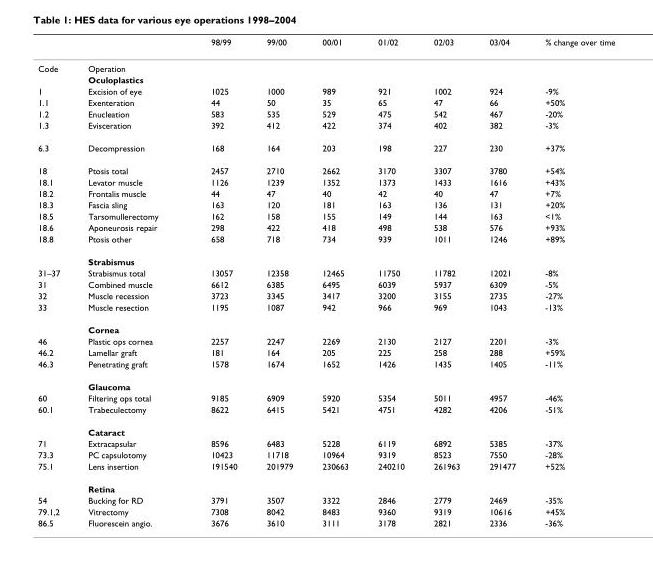table: (37, 36, 614, 527)
table column: (73, 36, 183, 527), (529, 36, 614, 527), (183, 36, 251, 527), (306, 36, 362, 527), (362, 36, 418, 527), (418, 36, 474, 527), (251, 36, 306, 527), (474, 36, 529, 527), (37, 36, 73, 527)
table column header: (37, 36, 614, 54)
table row: (37, 136, 614, 158), (37, 54, 614, 73), (37, 36, 614, 54), (37, 317, 614, 335), (37, 119, 614, 136), (37, 158, 614, 175), (37, 232, 614, 249), (37, 249, 614, 266), (37, 300, 614, 317), (37, 357, 614, 374), (37, 374, 614, 391), (37, 403, 614, 420), (37, 420, 614, 437), (37, 460, 614, 477), (37, 477, 614, 494), (37, 73, 614, 85), (37, 107, 614, 119), (37, 175, 614, 187), (37, 198, 614, 210), (37, 266, 614, 278), (37, 391, 614, 403), (37, 448, 614, 460), (37, 85, 614, 96), (37, 96, 614, 107), (37, 187, 614, 198), (37, 210, 614, 221), (37, 221, 614, 232), (37, 278, 614, 289), (37, 289, 614, 300), (37, 335, 614, 346), (37, 346, 614, 357), (37, 437, 614, 448), (37, 494, 614, 505), (37, 505, 614, 516), (37, 516, 614, 527)
table spanning cell: (37, 300, 73, 335), (37, 232, 73, 266), (37, 357, 73, 391), (37, 403, 73, 437), (37, 460, 73, 494), (37, 54, 73, 85)
